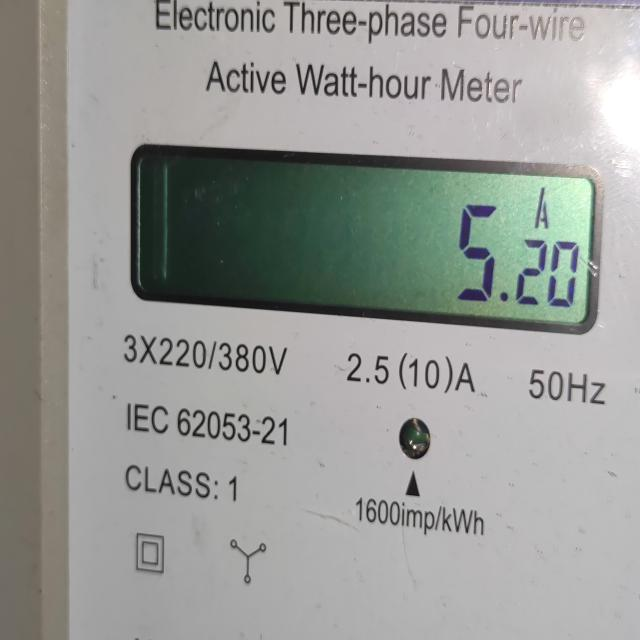display: (132, 142, 604, 334)
frame: (448, 199, 583, 317), (174, 406, 296, 452), (158, 337, 266, 377), (340, 347, 392, 389), (353, 493, 401, 528), (525, 364, 566, 404), (406, 354, 441, 393), (222, 469, 246, 506), (119, 332, 139, 368)
gauge: (66, 0, 640, 640)
